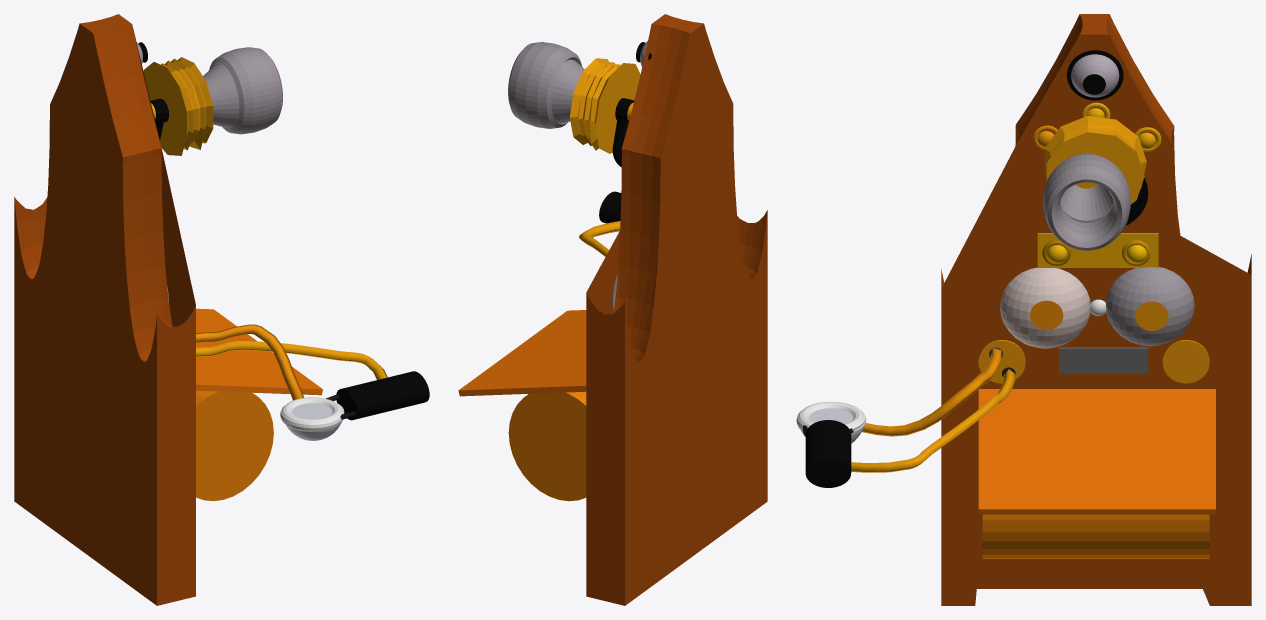
Rendered from Телефон2.fbx.
3 views of the same model, side by side, from view 1: azimuth 30°, elevation 25°; view 2: azimuth 150°, elevation 25°; view 3: azimuth 270°, elevation 25° (orthographic). The views are drawn at different scales.
Visible parts, largest first — view 1: Cube, Cylinder, Cube.002, Cylinder.003, Torus.008, Cylinder.004, Catenary, Cylinder.006, Catenary.001, Torus.007, Sphere.013; view 2: Cube, Cylinder, Cube.002, Cylinder.003, Torus.008, Cylinder.006, Catenary, Cylinder.004, Cylinder.005; view 3: Cube, Cube.002, Cylinder, Torus.008, Sphere.005, Sphere.004, Cylinder.003, Cylinder.004, Cube.006, Cube.004, Catenary, Catenary.001 (+9 smaller).
Boxes of the visible parts, x1,y1,x2,y2 form: Cube: (14, 14, 195, 605); Cylinder: (196, 390, 273, 501); Cube.002: (196, 308, 322, 395); Cylinder.003: (143, 57, 213, 155); Torus.008: (209, 47, 282, 134); Cylinder.004: (336, 371, 429, 420); Catenary: (196, 341, 387, 379); Cylinder.006: (203, 64, 239, 128); Catenary.001: (196, 324, 303, 400); Torus.007: (280, 397, 343, 431); Sphere.013: (286, 403, 344, 440); Cube: (586, 14, 767, 605); Cylinder: (508, 391, 586, 501); Cube.002: (458, 310, 586, 396); Cylinder.003: (569, 58, 640, 153); Torus.008: (508, 42, 582, 128); Cylinder.006: (551, 59, 584, 123); Catenary: (579, 221, 620, 256); Cylinder.004: (599, 191, 621, 223); Cylinder.005: (612, 118, 629, 167); Cube: (941, 14, 1251, 605); Cube.002: (978, 389, 1215, 514); Cylinder: (982, 514, 1209, 558); Torus.008: (1043, 153, 1130, 250); Sphere.005: (1000, 267, 1090, 348); Sphere.004: (1105, 267, 1194, 346); Cylinder.003: (1044, 116, 1146, 204); Cylinder.004: (805, 420, 851, 487); Cube.006: (1059, 347, 1148, 373); Cube.004: (1037, 233, 1158, 267); Catenary: (851, 369, 1015, 472); Catenary.001: (862, 348, 1001, 436).
Size of the model in its own units: 418 by 998 by 721.
